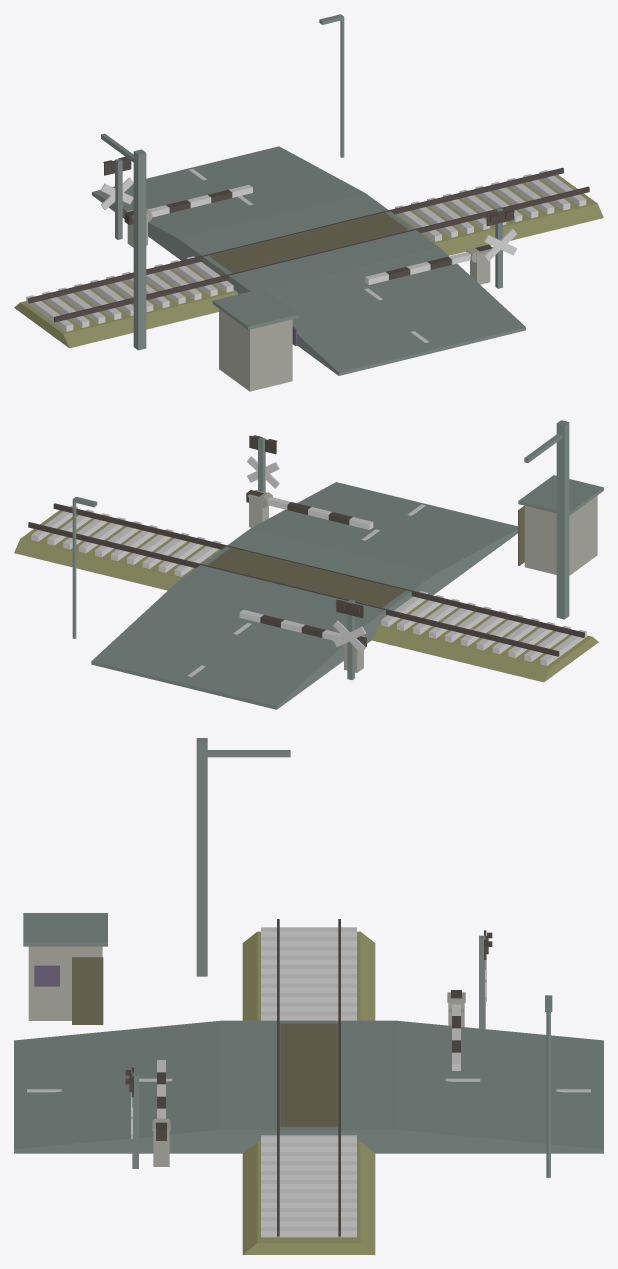
File: SM_PasoNivel_90_v4_Catenaria_LOD0.fbx
3 views of the same model, one above another, from view 1: azimuth 30°, elevation 25°; view 2: azimuth 150°, elevation 25°; view 3: azimuth 270°, elevation 25° (orthographic). The views are drawn at different scales.
Visible parts, largest first — view 1: SM_paso_nivel_kit_v4_LOD0, Barrera_1, Barrera_2; view 2: SM_paso_nivel_kit_v4_LOD0, Barrera_1, Barrera_2; view 3: SM_paso_nivel_kit_v4_LOD0, Barrera_2, Barrera_1.
Part boxes in pixels (bbox=[...]): SM_paso_nivel_kit_v4_LOD0: bbox=[14, 14, 603, 391]; Barrera_1: bbox=[365, 244, 492, 284]; Barrera_2: bbox=[124, 185, 252, 224]; SM_paso_nivel_kit_v4_LOD0: bbox=[14, 420, 603, 709]; Barrera_1: bbox=[246, 490, 373, 529]; Barrera_2: bbox=[239, 609, 366, 646]; SM_paso_nivel_kit_v4_LOD0: bbox=[14, 738, 603, 1254]; Barrera_2: bbox=[449, 990, 463, 1070]; Barrera_1: bbox=[154, 1060, 168, 1140].
Size of the model in its own units: 20 by 7 by 16.
